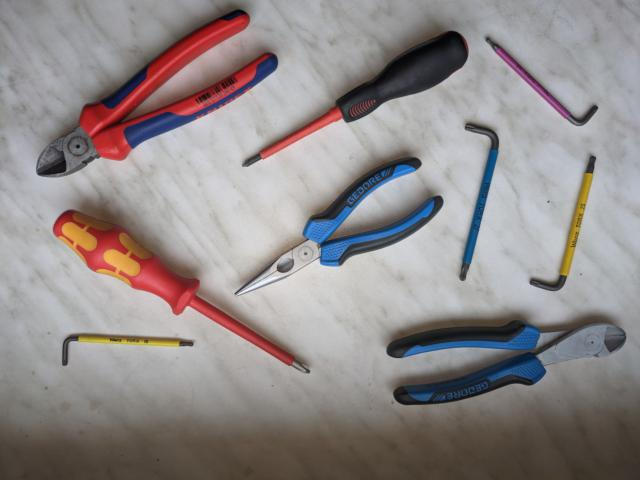Inbusschlüssel: (482, 34, 602, 130), (525, 153, 600, 295), (454, 119, 503, 286), (58, 332, 196, 370)
Schraubendreher: (50, 206, 314, 376), (239, 27, 472, 171)
Seitenschneider: (31, 7, 282, 183), (384, 317, 629, 408)
Zange: (231, 150, 447, 301)
